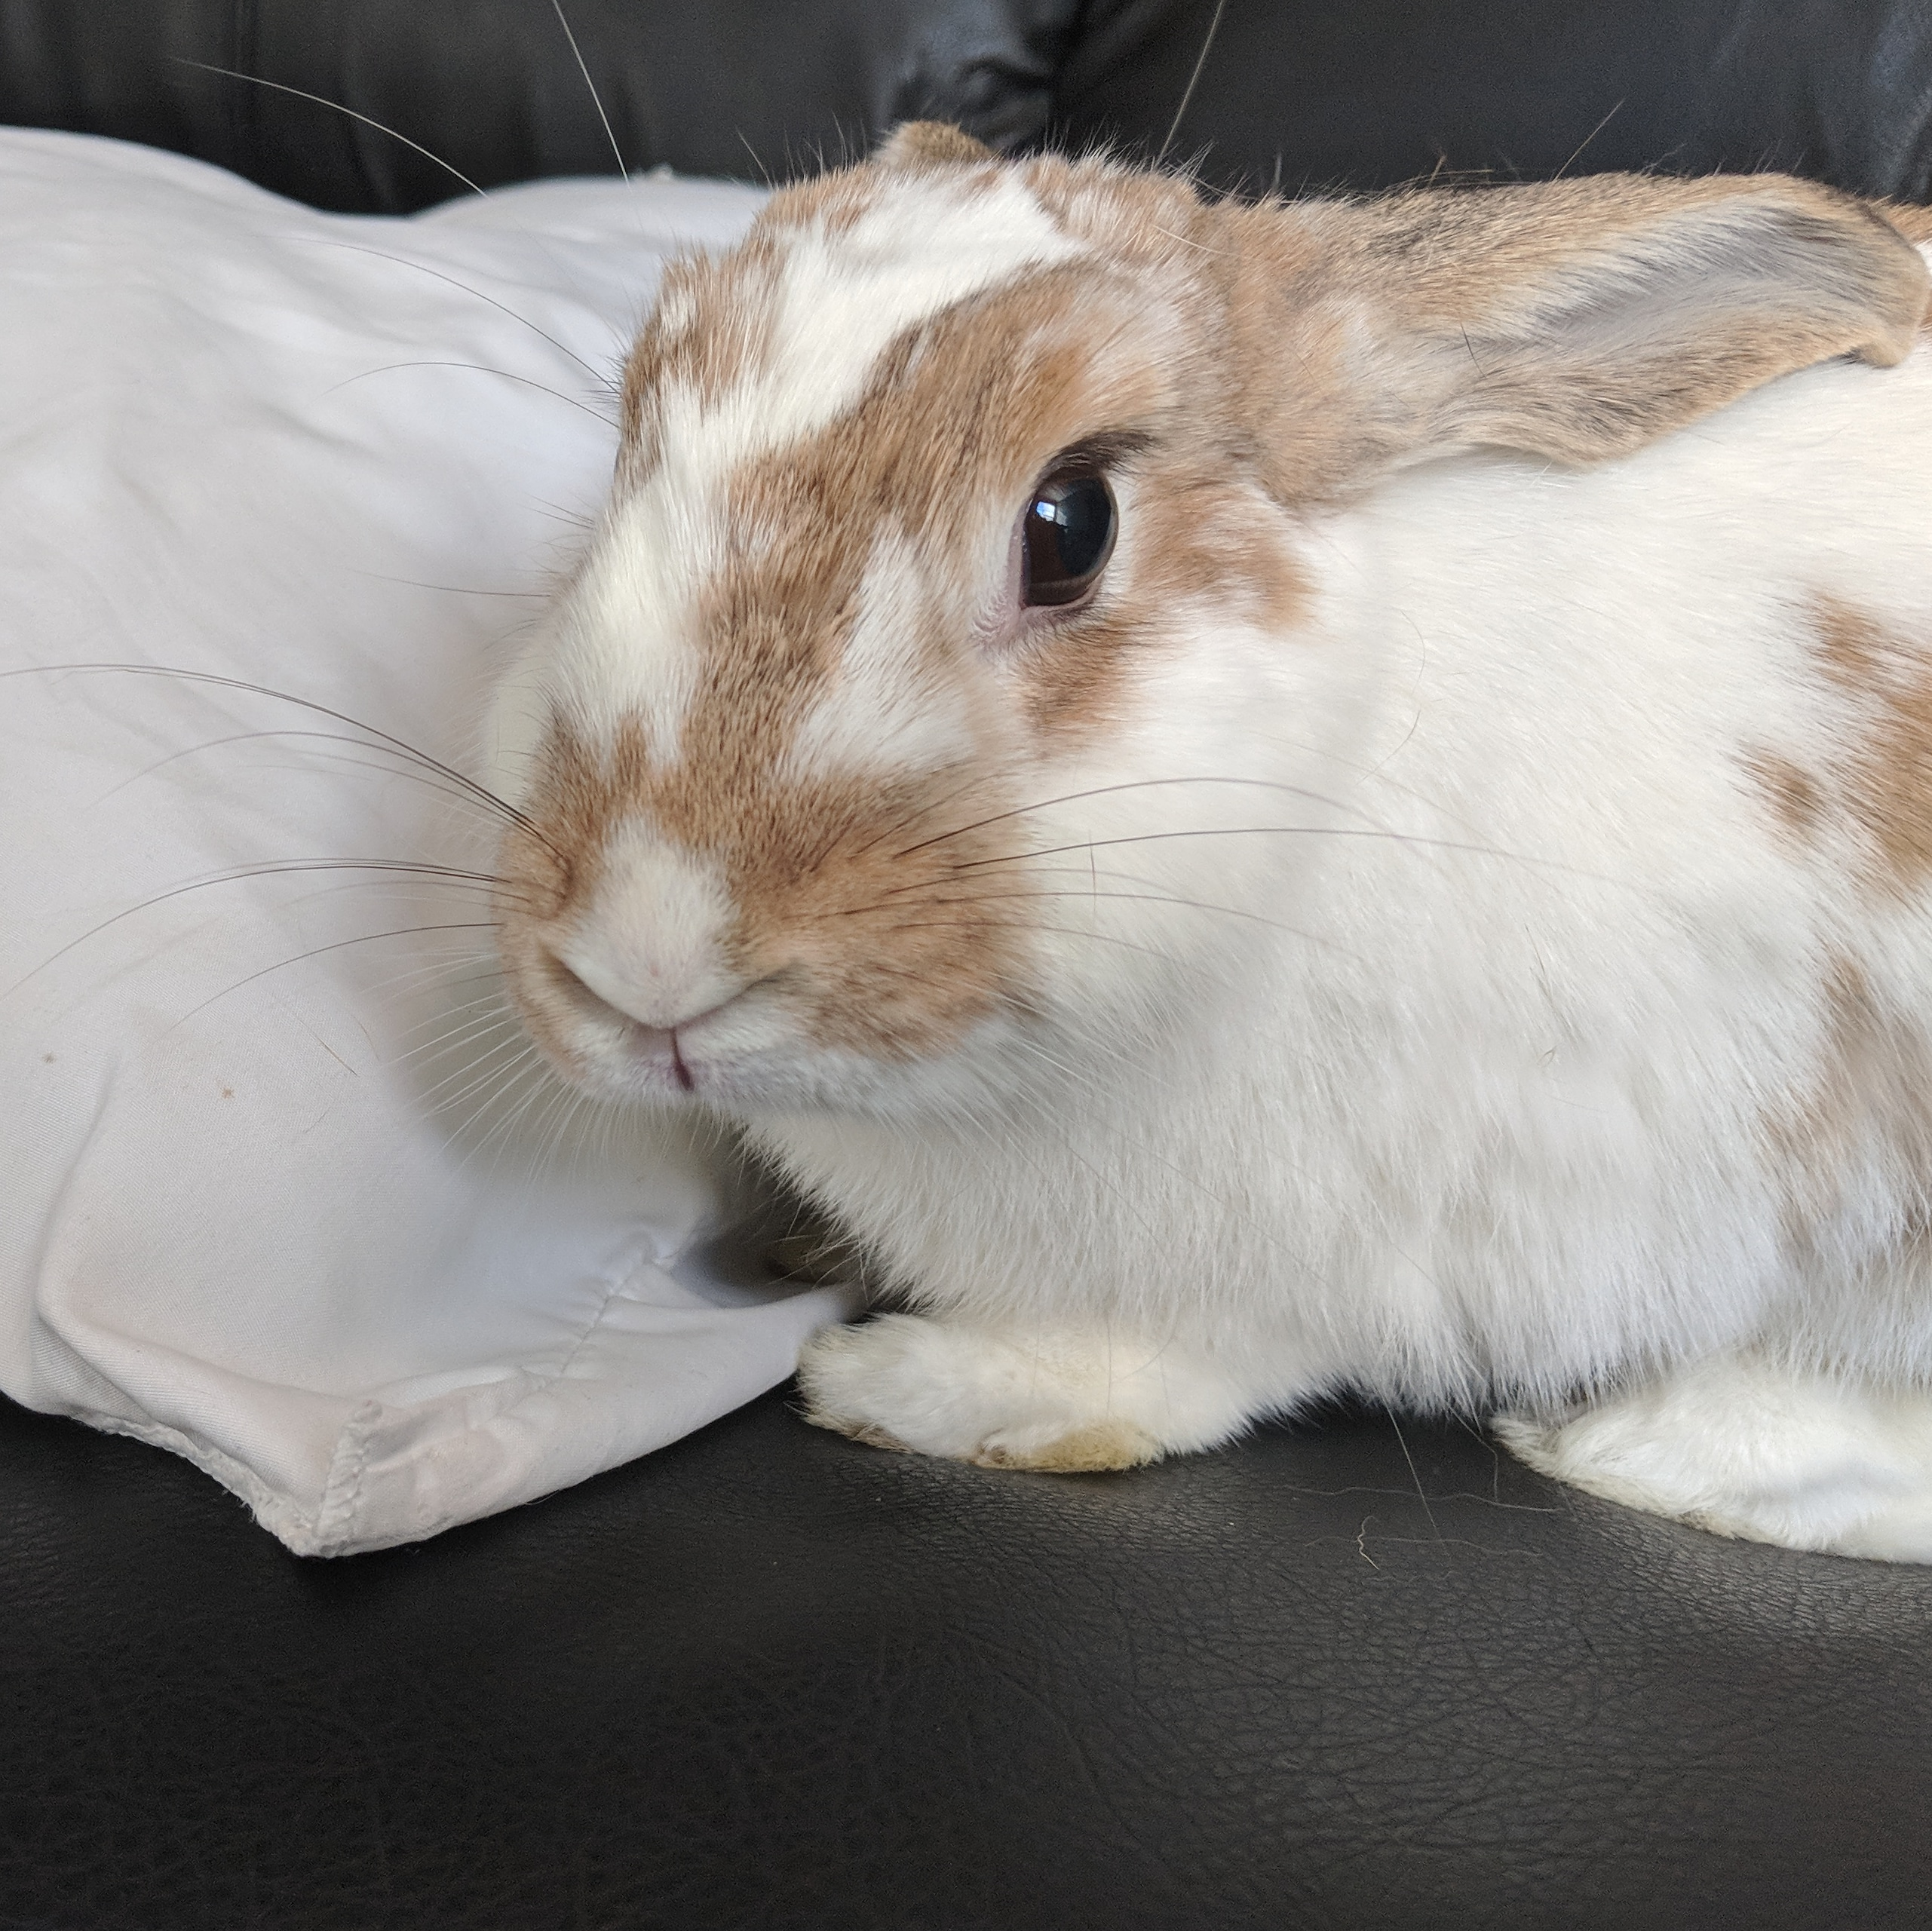bunny: (418, 57, 1932, 1537)
